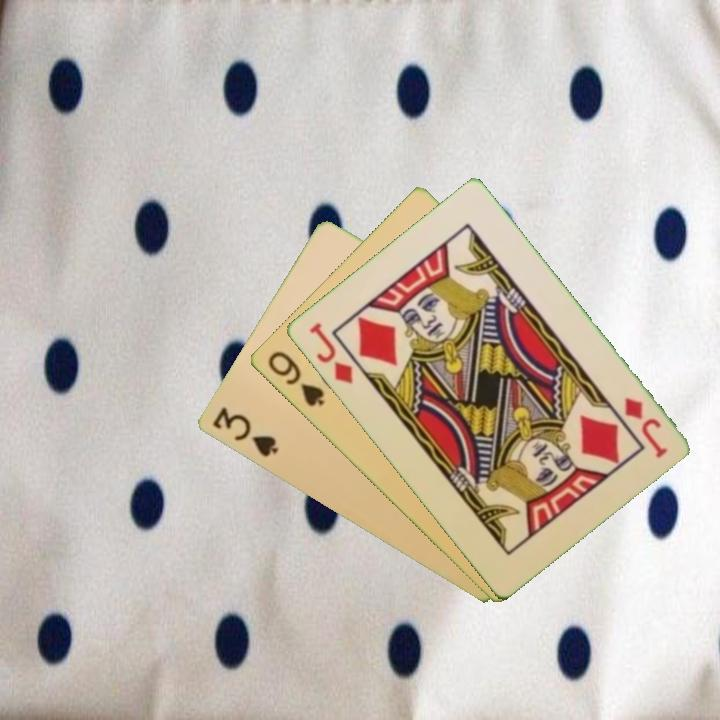3s: (208, 403, 281, 460)
9s: (263, 347, 328, 410)
Jd: (304, 319, 356, 388), (620, 393, 671, 461)
